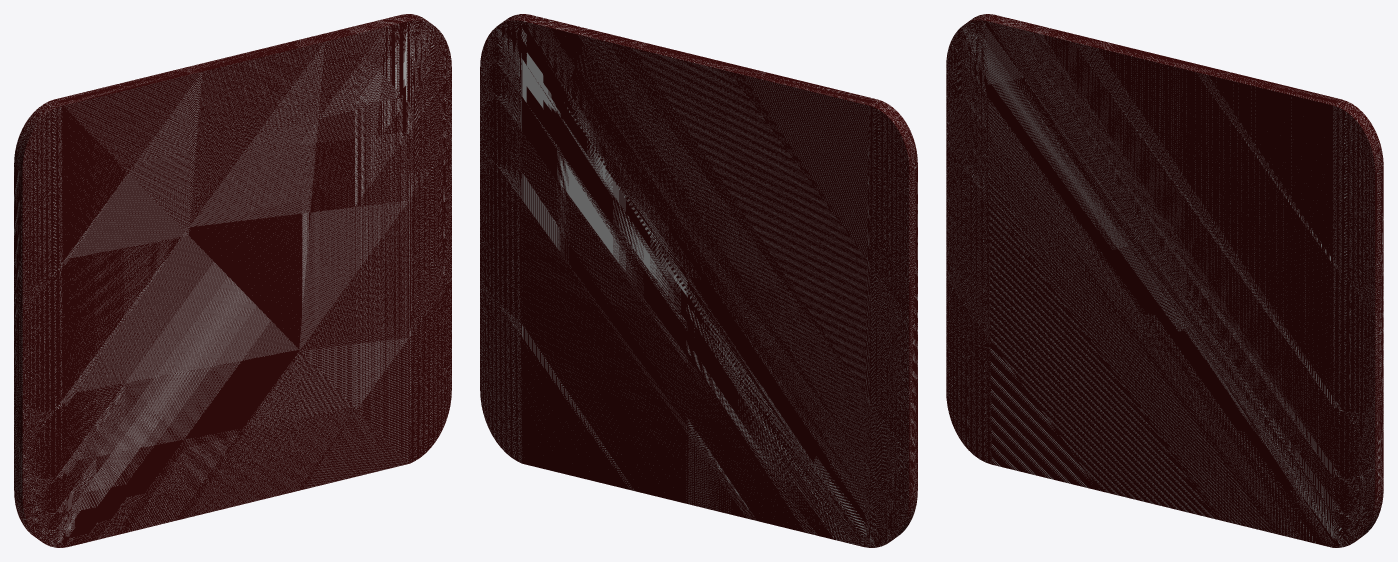
The model's file is original-42.obj.
The picture shows the model from 3 angles, left to right: view 1: azimuth 30°, elevation 25°; view 2: azimuth 150°, elevation 25°; view 3: azimuth 330°, elevation 25°; orthographic projection.
Parts seen in each view (by area): view 1: mesh75/mesh75-geometry#mesh75-geometry; view 2: mesh75/mesh75-geometry#mesh75-geometry; view 3: mesh75/mesh75-geometry#mesh75-geometry.
Part boxes in pixels (box(x1,y1,x2,y2)): mesh75/mesh75-geometry#mesh75-geometry: box(14, 14, 451, 547); mesh75/mesh75-geometry#mesh75-geometry: box(480, 14, 917, 547); mesh75/mesh75-geometry#mesh75-geometry: box(946, 14, 1383, 547).
Bounding box in the file's own units: 0.1129 × 0.1112 × 0.00383.
